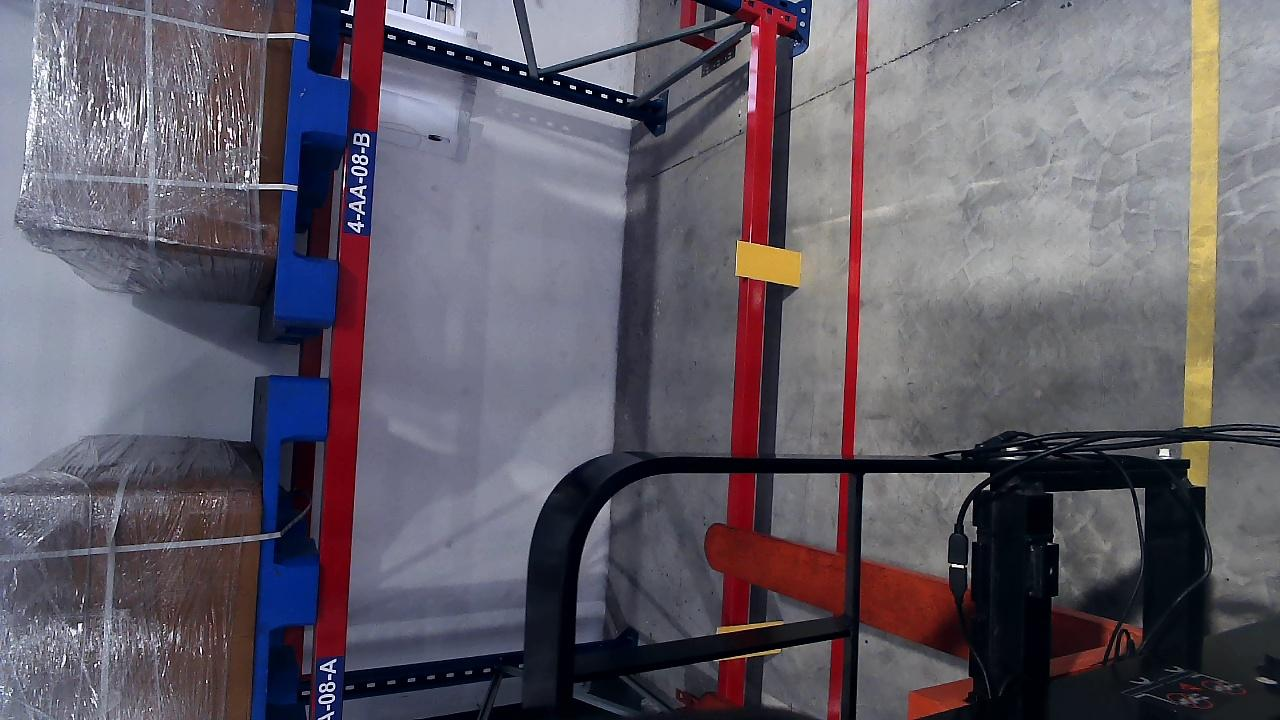h_rack: (315, 0, 388, 720), (729, 10, 778, 579)
orange_strip: (735, 241, 801, 287)
red_line: (837, 9, 869, 591)
small_pallet: (270, 0, 367, 315), (254, 378, 331, 720)
yellow_line: (1181, 0, 1221, 425)
